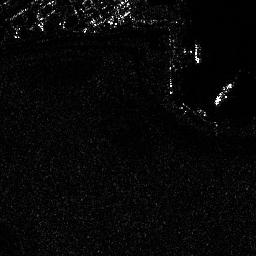ship: (215, 81, 233, 105), (193, 42, 202, 64)
